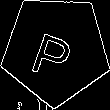P_N: (30, 20, 81, 80)
